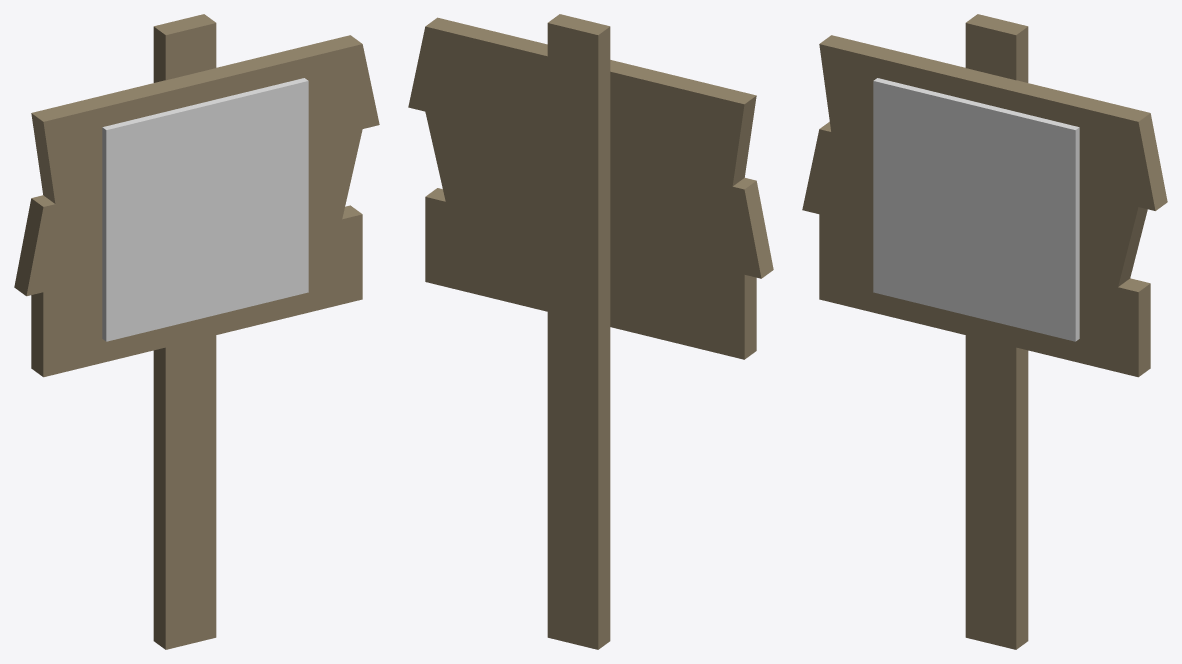
File: WoodSign.fbx
The picture shows the model from 3 angles, left to right: view 1: azimuth 30°, elevation 25°; view 2: azimuth 150°, elevation 25°; view 3: azimuth 330°, elevation 25°; orthographic projection.
Visible parts, largest first — view 1: Panel, WoodCylinder, WoodPanel3, WoodPanel2, WoodPanel1; view 2: WoodCylinder, WoodPanel3, WoodPanel1, WoodPanel2; view 3: Panel, WoodCylinder, WoodPanel3, WoodPanel2, WoodPanel1.
Part boxes in pixels (<box>): Panel: <box>102,78,308,341</box>; WoodCylinder: <box>153,14,216,649</box>; WoodPanel3: <box>31,35,379,203</box>; WoodPanel2: <box>31,205,362,377</box>; WoodPanel1: <box>14,129,362,296</box>; WoodCylinder: <box>547,14,610,649</box>; WoodPanel3: <box>408,17,756,186</box>; WoodPanel1: <box>425,111,773,278</box>; WoodPanel2: <box>425,188,756,359</box>; Panel: <box>873,78,1079,341</box>; WoodCylinder: <box>965,14,1028,649</box>; WoodPanel3: <box>819,35,1167,210</box>; WoodPanel2: <box>819,214,1150,377</box>; WoodPanel1: <box>802,121,1147,286</box>.
Size of the model in its own units: 148 by 246 by 20.71.
